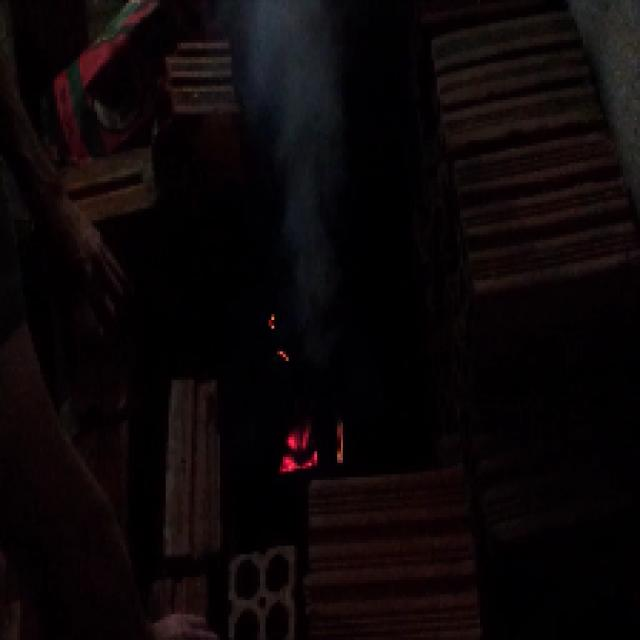smoke: (264, 24, 336, 326)
